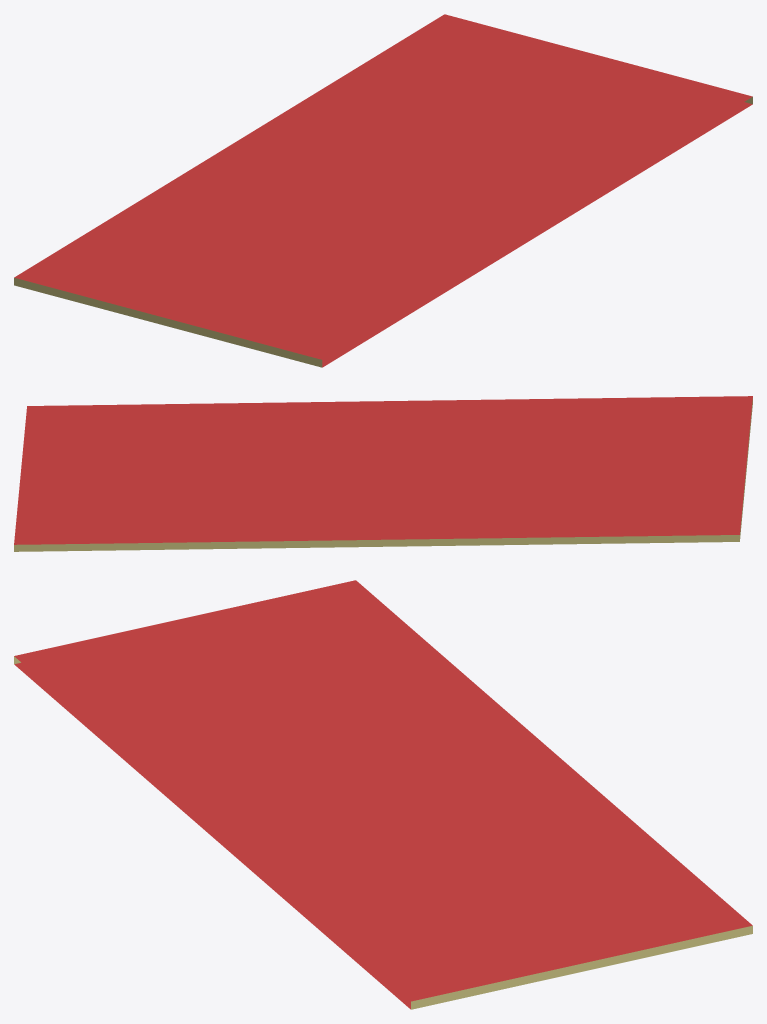
3 views of the same model, one above another, from view 1: azimuth 30°, elevation 25°; view 2: azimuth 150°, elevation 25°; view 3: azimuth 270°, elevation 25° (orthographic). The views are drawn at different scales.
Bounding box in the file's own units: 10.26 × 8.11 × 0.416.
